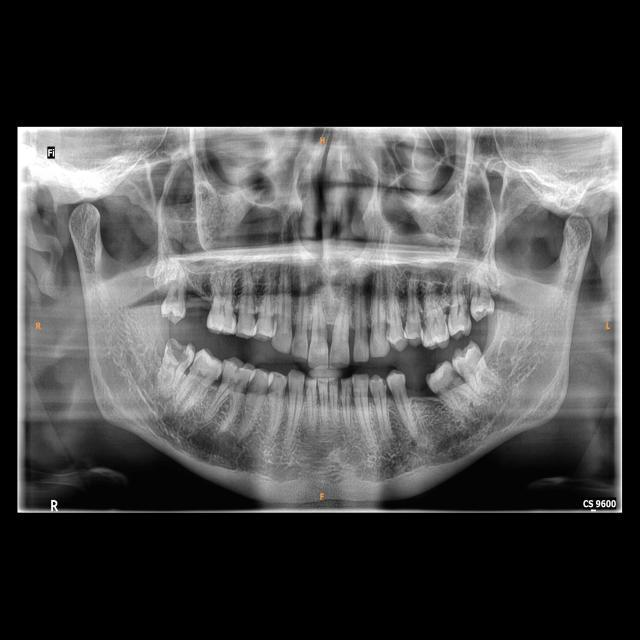dentin-curugu: (165, 338, 192, 364), (421, 314, 431, 338), (463, 305, 472, 326), (386, 321, 393, 339)
